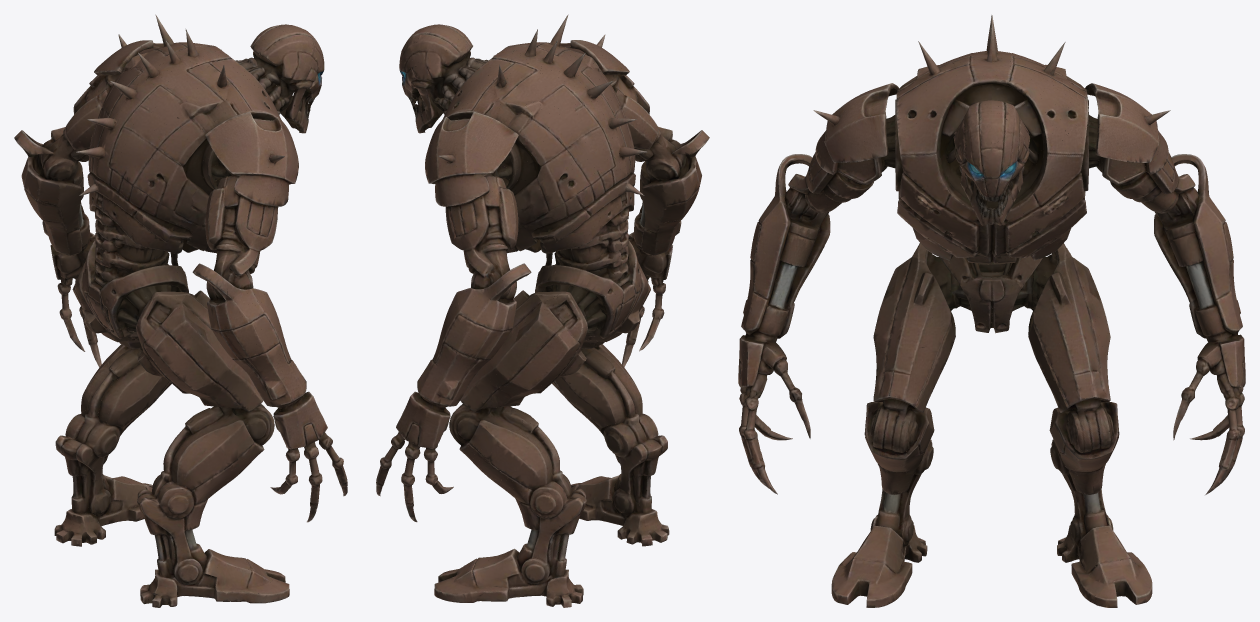
File: rusty_claws_robot.glb
The picture shows the model from 3 angles, left to right: view 1: azimuth 30°, elevation 25°; view 2: azimuth 150°, elevation 25°; view 3: azimuth 270°, elevation 25°; orthographic projection. The views are drawn at different scales.
Parts seen in each view (by area): view 1: Body, LegN, ArmN, LegP, ArmP; view 2: Body, LegP, ArmP, LegN, ArmN; view 3: Body, ArmP, ArmN, LegN, LegP.
Boxes of the visible parts, x1,y1,x2,y2 form: Body: (65, 14, 324, 603); LegN: (137, 376, 289, 607); ArmN: (192, 231, 347, 522); LegP: (54, 333, 171, 546); ArmP: (14, 127, 101, 367); Body: (399, 14, 658, 602); LegP: (434, 365, 586, 607); ArmP: (376, 232, 531, 522); LegN: (552, 332, 669, 546); ArmN: (622, 126, 709, 367); Body: (807, 15, 1176, 603); ArmP: (1143, 154, 1245, 494); ArmN: (738, 154, 840, 494); LegN: (838, 363, 945, 607); LegP: (1037, 336, 1145, 607).
Bounding box in the file's own units: 0.4883 × 0.9961 × 0.8173.
1 material, 1 textured.
